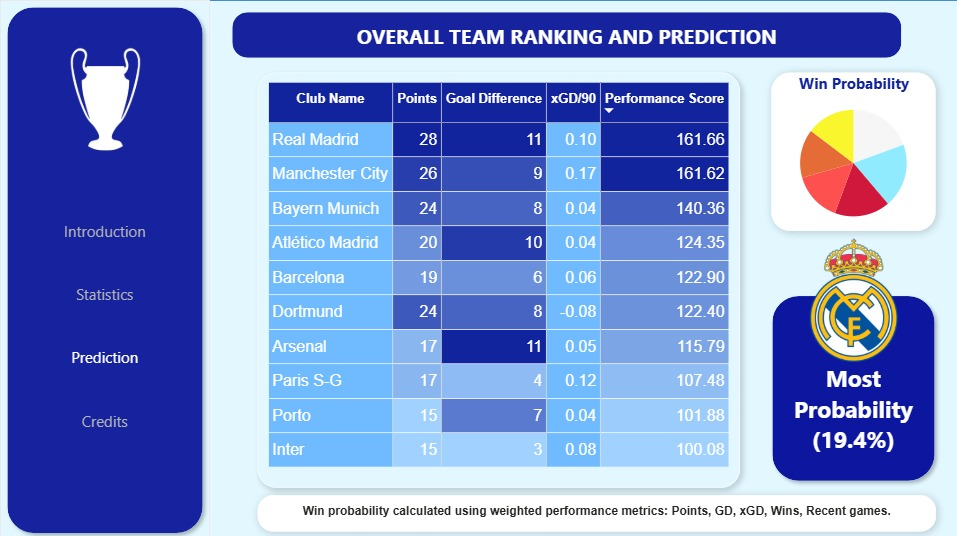

What the dashboard file says about the page in this screenshot:
{"tool":"powerbi","page":{"name":"Presentation 3","canvas":[1280,720],"ordinal":2},"visuals":[{"type":"shape","box":[0,0,1280.3,720.4],"z":0},{"type":"shape","box":[0,0,279.9,720.4],"z":1000},{"type":"shape","box":[304.5,11.9,901.5,70.1],"z":2000},{"type":"tableEx","fields":{"Values":["23-24 Season.Club Name","Sum(23-24 Season.Points)","Sum(23-24 Season.Goal Difference)","Sum(23-24 Season.xGD/90)","Sum(23-24 Season.Perfomance Score)"]},"box":[343.3,96.7,643.3,553.3],"z":3000},{"type":"shape","title":"Title Holders","box":[1020.3,385.2,235.7,265.7],"z":4000},{"type":"image","box":[56,48.8,167.9,167.9],"z":5000},{"type":"actionButton","box":[31.3,286.6,216.4,40.3],"z":6000},{"type":"actionButton","box":[32.4,371.1,216.2,40.5],"z":7000},{"type":"actionButton","box":[31.1,455.8,216.2,40.5],"z":8000},{"type":"actionButton","box":[31.1,540.5,216.2,40.5],"z":9000},{"type":"image","box":[1008.9,313.8,260,174.3],"z":10000},{"type":"pieChart","title":"Win Probability","fields":{"Category":["23-24 Season.Club Name"],"Series":["23-24 Season.Team Rank"],"Y":["Sum(23-24 Season.Win Probability)"]},"box":[1029.1,96.9,219.5,211],"z":11000},{"type":"textbox","box":[343.5,660,905.1,48.5],"z":12000}]}

Visuals, with their boxes in screenshot pixels (x1, y1, x2, y2), scaled from the page's 1280x720 canvas onto the 957x536 screenshot:
shape: 0/0/956/535
shape: 0/0/209/535
shape: 228/9/902/61
tableEx - 23-24 Season.Club Name x Sum(23-24 Season.Points): 257/72/738/484
"Title Holders" shape: 763/287/939/485
image: 42/36/167/161
actionButton: 23/213/185/243
actionButton: 24/276/186/306
actionButton: 23/339/185/369
actionButton: 23/402/185/433
image: 754/234/949/363
"Win Probability" pieChart: 769/72/934/229
textbox: 257/491/934/527
